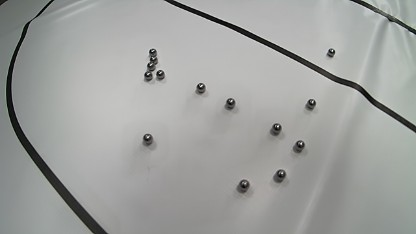ironball: (237, 179, 250, 192), (275, 169, 286, 182), (294, 140, 305, 152), (271, 123, 282, 135), (305, 98, 316, 109), (143, 133, 153, 144), (196, 82, 206, 93), (225, 98, 235, 109), (155, 70, 165, 79), (143, 71, 152, 81), (326, 48, 335, 57), (146, 62, 155, 71), (149, 48, 157, 57), (149, 56, 158, 64), (387, 15, 394, 22)
